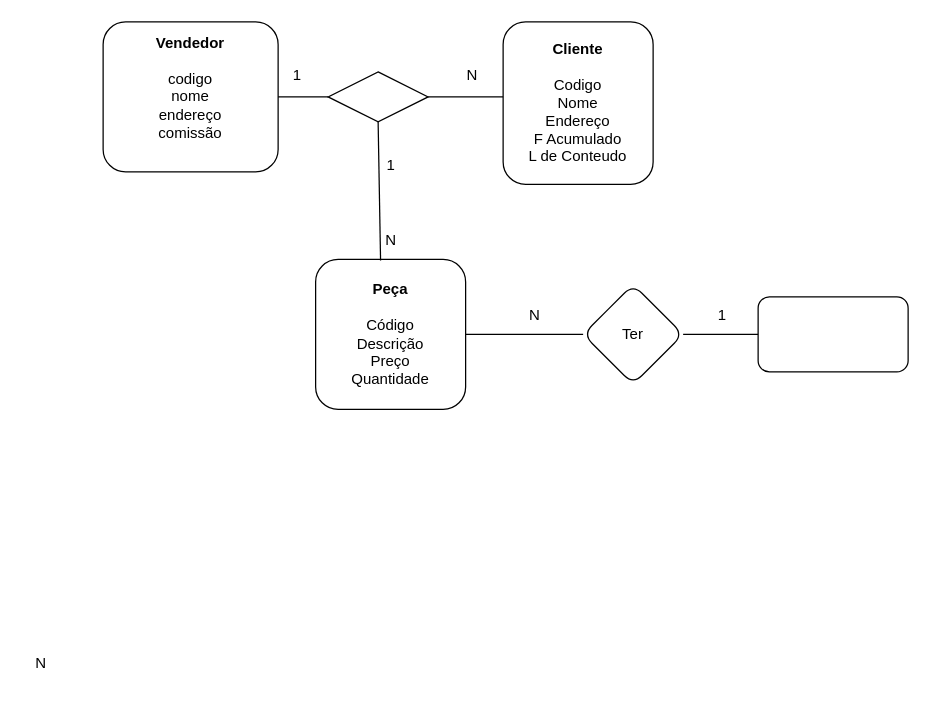
Some shapes in this 930 by 714 pixel diagram are drawn without their labels. Each missing label, with the centre of its shape:
Armazenamento Código endereço: the point at 832,334
Atender: the point at 377,96
